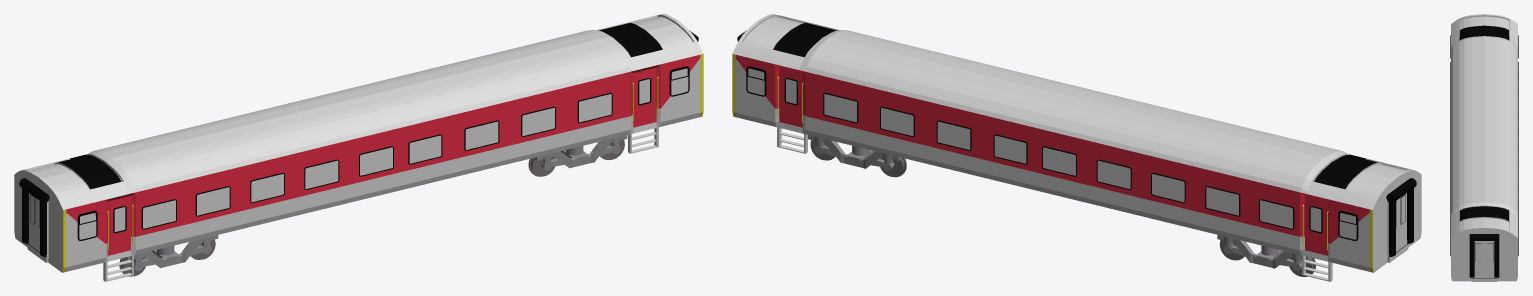
The model's file is train-coach.gltf.
The picture shows the model from 3 angles, left to right: view 1: azimuth 30°, elevation 25°; view 2: azimuth 150°, elevation 25°; view 3: azimuth 270°, elevation 25°; orthographic projection. The views are drawn at different scales.
Visible parts, largest first — view 1: Body_0, Bogie1_6, Bogie2_5, SidePipe_3; view 2: Body_0, Bogie1_6, Bogie2_5, SidePipe_3; view 3: Body_0, SidePipe_3, UpperPipe_4.
Boxes of the visible parts, box(x1,y1,x2,y2) form: Body_0: box(14, 14, 703, 281); Bogie1_6: box(528, 135, 627, 176); Bogie2_5: box(119, 235, 218, 276); SidePipe_3: box(22, 188, 46, 256); Body_0: box(732, 14, 1421, 281); Bogie1_6: box(808, 135, 906, 177); Bogie2_5: box(1217, 235, 1315, 276); SidePipe_3: box(1389, 188, 1413, 256); Body_0: box(1450, 14, 1518, 281); SidePipe_3: box(1469, 240, 1499, 277); UpperPipe_4: box(1469, 234, 1499, 240).
Size of the model in its own units: 28.49 by 4.59 by 3.75.
